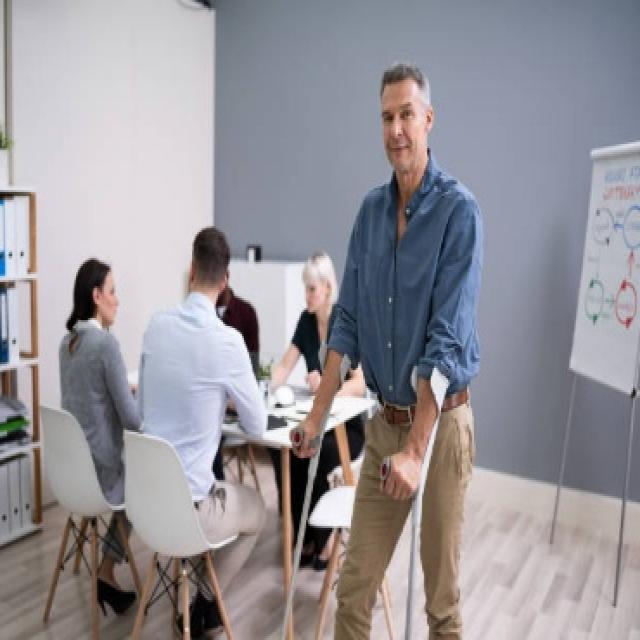adult: (283, 55, 487, 640), (146, 216, 264, 480), (64, 236, 141, 481)
